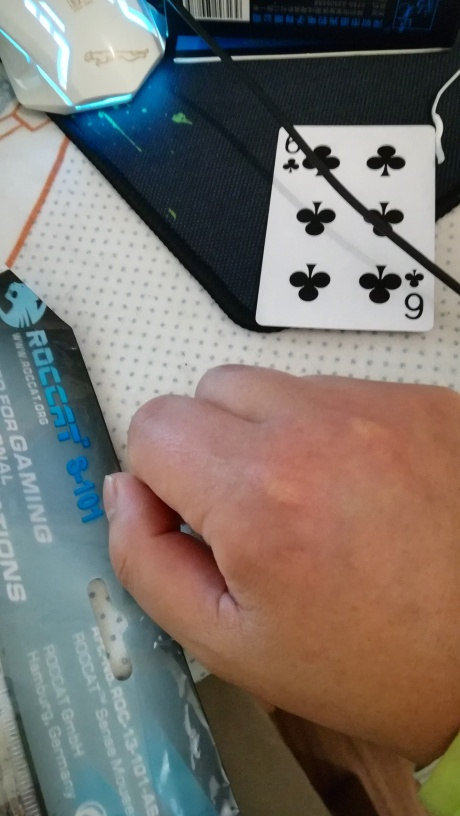mh 6: (258, 122, 435, 335)
